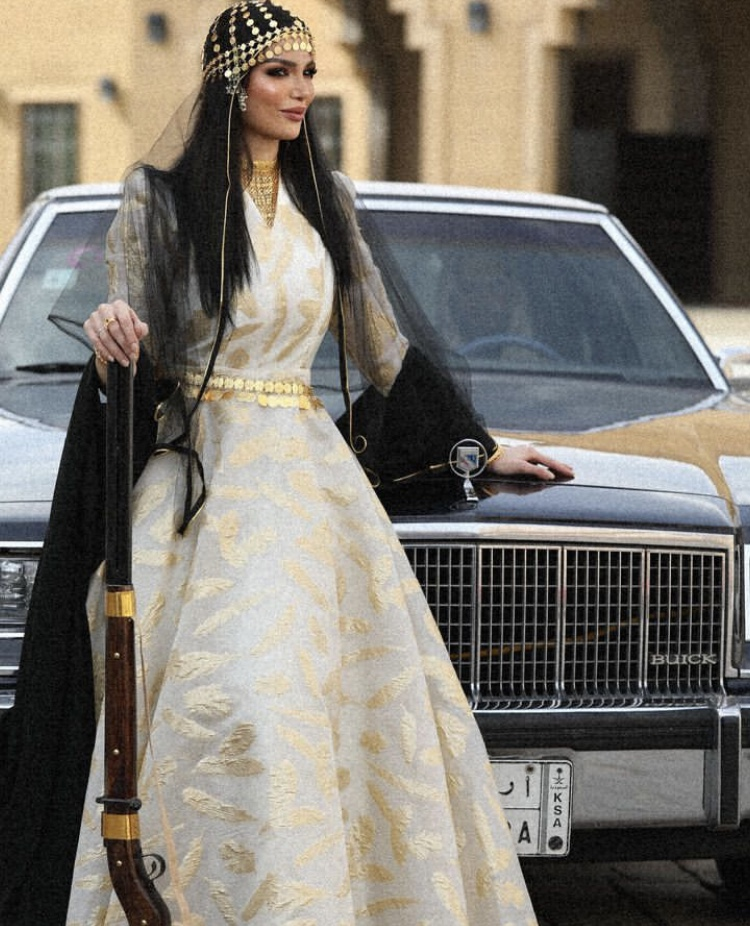Saudi_Founding_Day: (5, 2, 574, 926)
